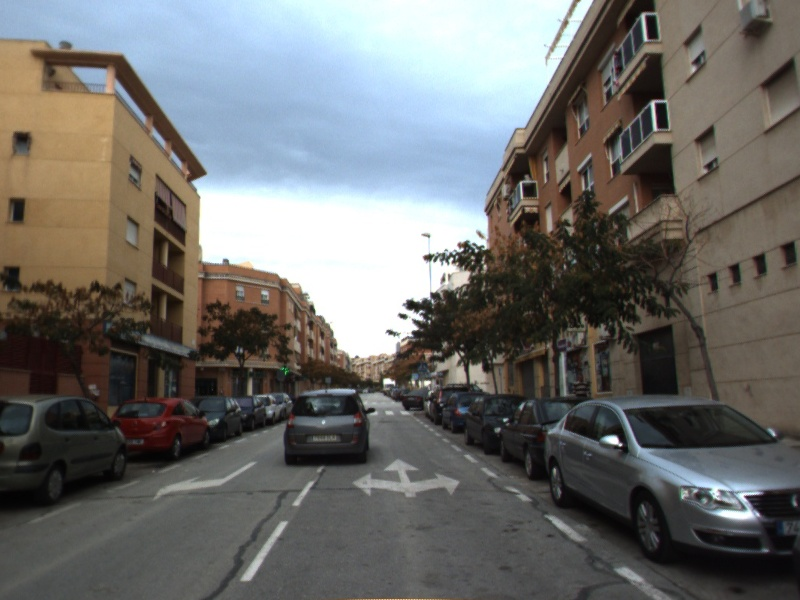STRAIGHT_LEFT_RIGHT: (350, 456, 463, 499)
